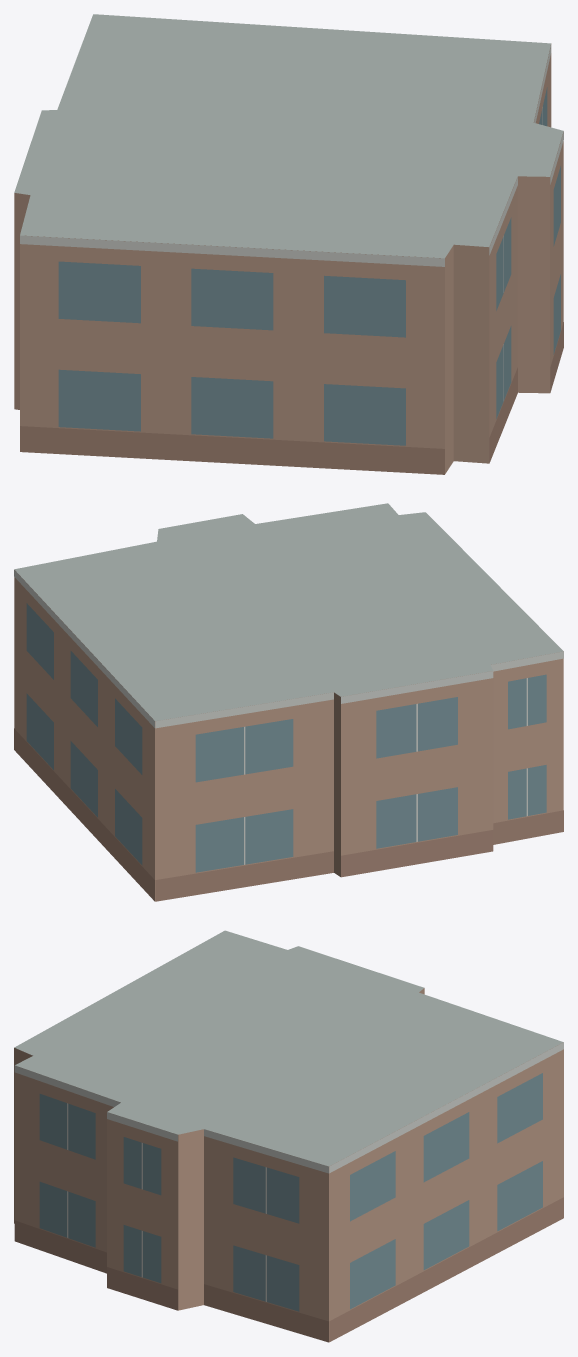
Rendered from survey-upis-32868029.glb.
The picture shows the model from 3 angles, top to bottom: view 1: azimuth 30°, elevation 25°; view 2: azimuth 150°, elevation 25°; view 3: azimuth 270°, elevation 25°; orthographic projection. The views are drawn at different scales.
Parts seen in each view (by area): view 1: survey-upis-32868029.tmp; view 2: survey-upis-32868029.tmp; view 3: survey-upis-32868029.tmp.
Boxes of the visible parts, x1,y1,x2,y2 form: survey-upis-32868029.tmp: [14, 14, 563, 474]; survey-upis-32868029.tmp: [14, 503, 563, 901]; survey-upis-32868029.tmp: [14, 930, 563, 1342].
Size of the model in its own units: 17.56 by 6.1 by 17.28.
